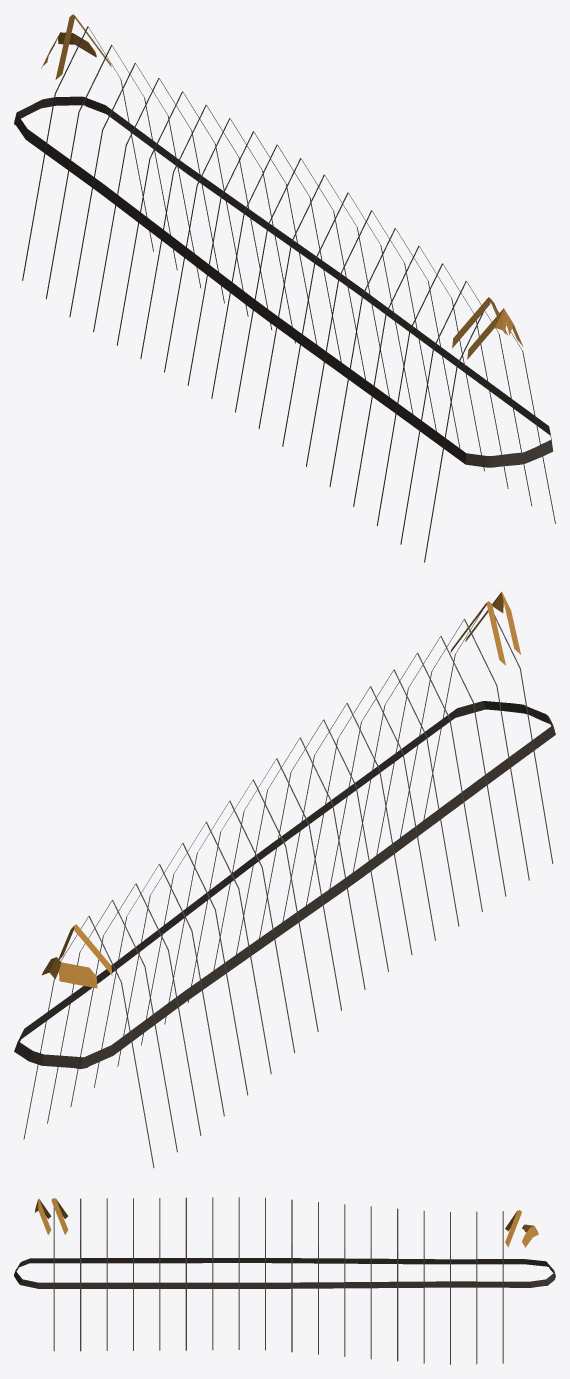
The model's file is dam_training_wall_west_detail1.glb.
The picture shows the model from 3 angles, top to bottom: view 1: azimuth 30°, elevation 25°; view 2: azimuth 150°, elevation 25°; view 3: azimuth 270°, elevation 25°; orthographic projection. The views are drawn at different scales.
Visible parts, largest first — view 1: dam_training_wall_west_detail1; view 2: dam_training_wall_west_detail1; view 3: dam_training_wall_west_detail1.
Part boxes in pixels (left/top/right/bottom): dam_training_wall_west_detail1: left=14, top=14, right=555, bottom=562; dam_training_wall_west_detail1: left=14, top=591, right=555, bottom=1168; dam_training_wall_west_detail1: left=14, top=1197, right=555, bottom=1364.
Bounding box in the file's own units: 8 × 15.64 × 51.3.
